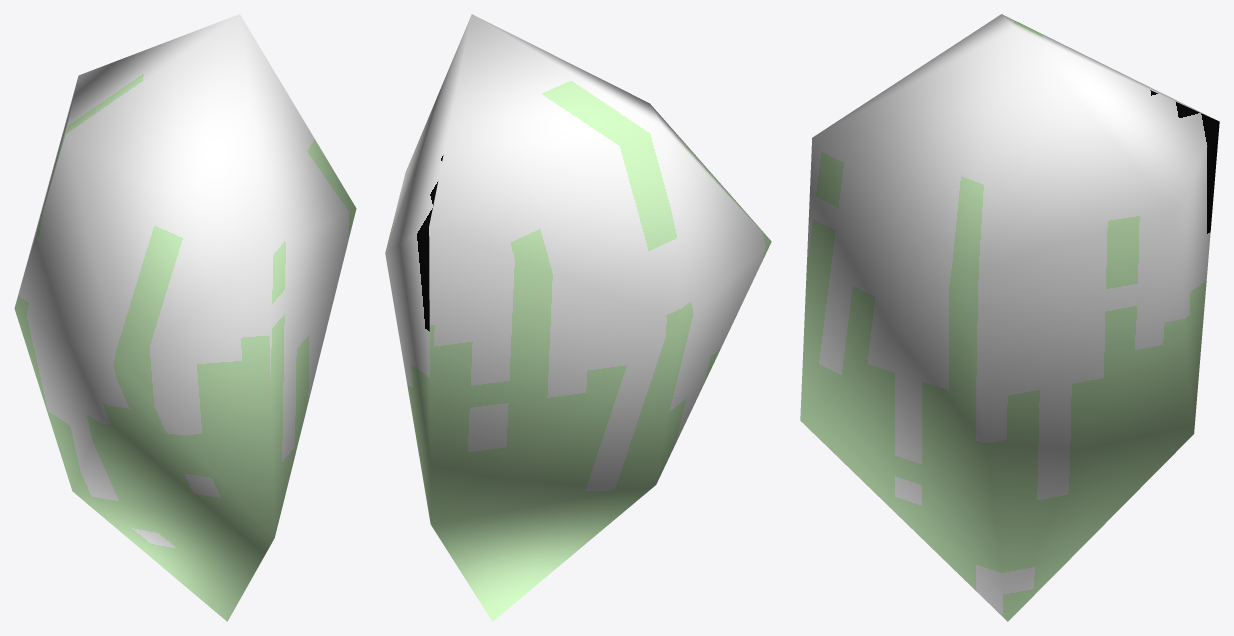
File: model_shard_0.fbx
3 views of the same model, side by side, from view 1: azimuth 30°, elevation 25°; view 2: azimuth 150°, elevation 25°; view 3: azimuth 270°, elevation 25° (orthographic).
Visible parts, largest first — view 1: shard; view 2: shard; view 3: shard.
Boxes of the visible parts, x1,y1,x2,y2 form: shard: (14,14,356,621); shard: (385,14,771,621); shard: (800,14,1219,621).
Bounding box in the file's own units: 1.19 × 2.22 × 1.41.
